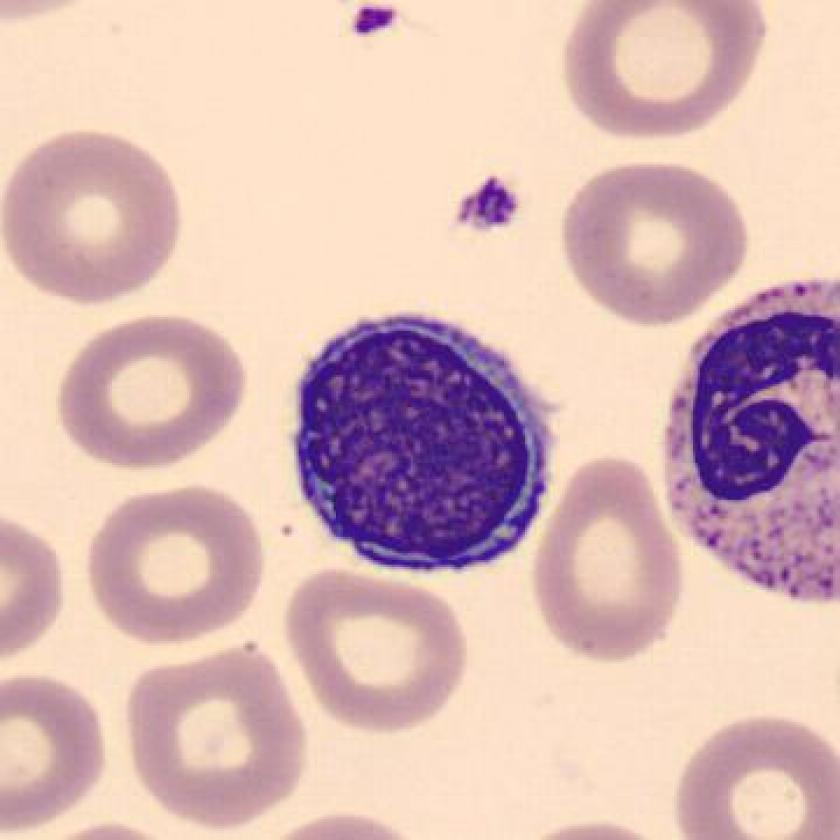lymphocyte: (272, 295, 566, 596)
neutrophil: (655, 271, 840, 617)
platelets: (451, 173, 527, 246), (343, 1, 414, 46)
